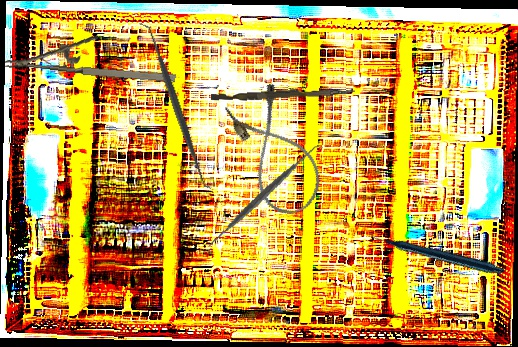Cannula: (220, 80, 332, 224)
Handpiece: (368, 181, 506, 322)
Needle Holder: (4, 25, 180, 88)
Pusher: (210, 83, 356, 105)
Spatula Surgical: (202, 133, 324, 259), (137, 17, 215, 194)
